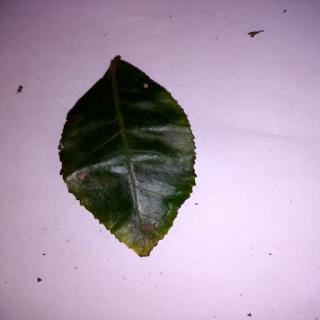Anthracnose: (58, 57, 199, 256)
